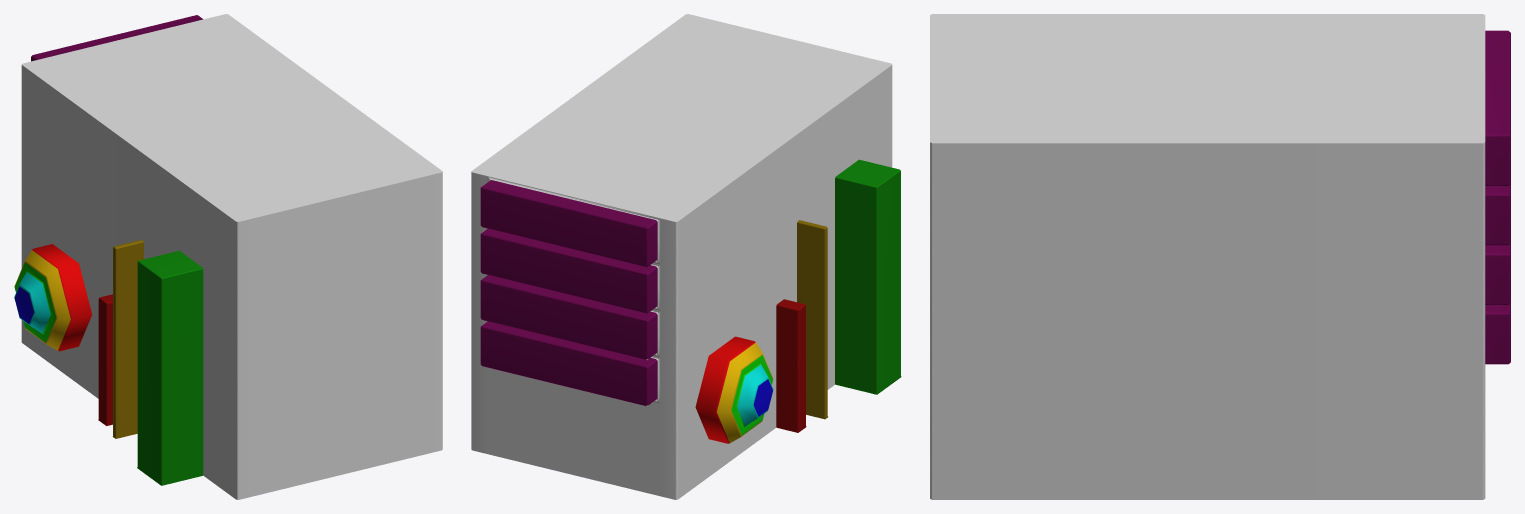
File: server.fbx
3 renders of one model, left to right at view 1: azimuth 30°, elevation 25°; view 2: azimuth 150°, elevation 25°; view 3: azimuth 270°, elevation 25°, orthographic. The views are drawn at different scales.
Visible parts, largest first — view 1: server; view 2: server; view 3: server.
Boxes of the visible parts, bbox=[...] form: server: bbox=[14, 14, 442, 499]; server: bbox=[471, 14, 901, 499]; server: bbox=[930, 14, 1510, 499].
Bounding box in the file's own units: 460 × 492 × 726.
